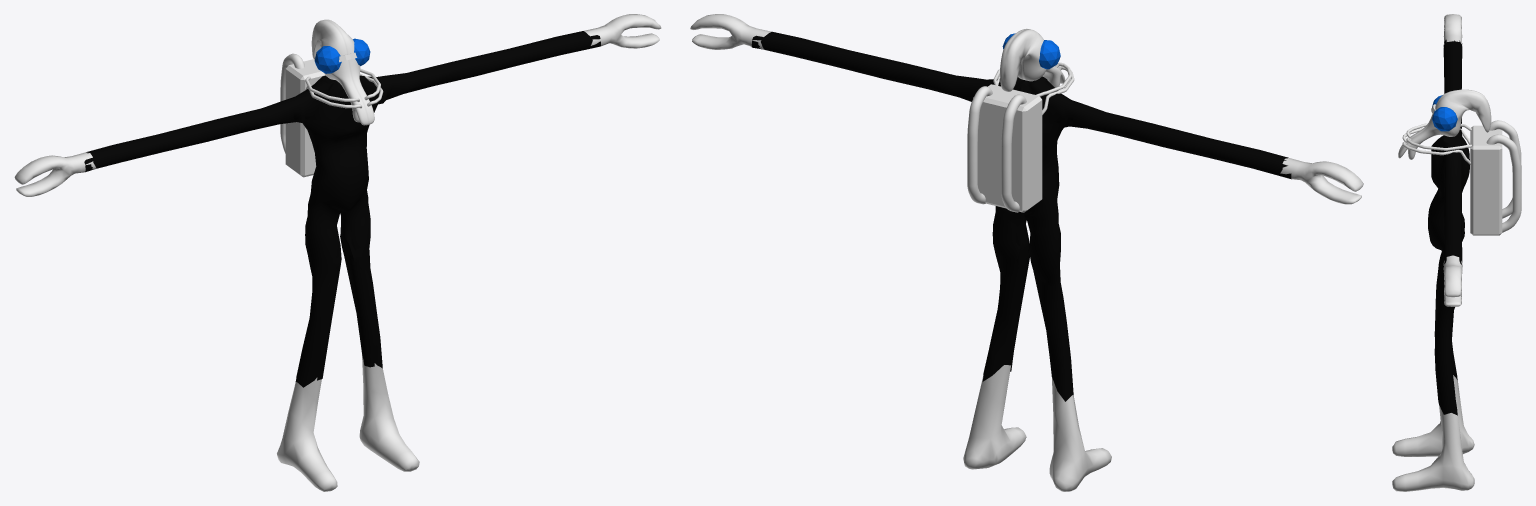
File: Xirodot.fbx
3 views of the same model, side by side, from view 1: azimuth 30°, elevation 25°; view 2: azimuth 150°, elevation 25°; view 3: azimuth 270°, elevation 25° (orthographic). The views are drawn at different scales.
Parts seen in each view (by area): view 1: Vert, Vert.005, Plane, Cube.001, Icosphere; view 2: Vert, Vert.005, Cube.001, Plane, Vert.004, Vert.003; view 3: Vert, Cube.001, Plane, Vert.005, Vert.004, Icosphere, Vert.003, Vert.002, Vert.001.
Part boxes in pixels (x1=…): Vert: x1=14, y1=14, x2=661, y2=491; Vert.005: x1=84, y1=35, x2=600, y2=380; Plane: x1=311, y1=19, x2=374, y2=125; Cube.001: x1=285, y1=59, x2=325, y2=177; Icosphere: x1=314, y1=38, x2=370, y2=73; Vert: x1=690, y1=14, x2=1363, y2=491; Vert.005: x1=751, y1=35, x2=1291, y2=395; Cube.001: x1=973, y1=84, x2=1042, y2=212; Plane: x1=1000, y1=28, x2=1065, y2=91; Vert.004: x1=967, y1=86, x2=992, y2=204; Vert.003: x1=1001, y1=94, x2=1026, y2=212; Vert: x1=1392, y1=14, x2=1474, y2=491; Cube.001: x1=1470, y1=125, x2=1502, y2=235; Plane: x1=1398, y1=89, x2=1491, y2=159; Vert.005: x1=1428, y1=39, x2=1465, y2=412; Vert.004: x1=1486, y1=134, x2=1521, y2=232; Icosphere: x1=1432, y1=95, x2=1457, y2=131; Vert.003: x1=1490, y1=120, x2=1521, y2=218; Vert.002: x1=1402, y1=137, x2=1471, y2=164; Vert.001: x1=1402, y1=123, x2=1471, y2=144.
Bounding box in the file's own units: 885 × 570 × 174.
